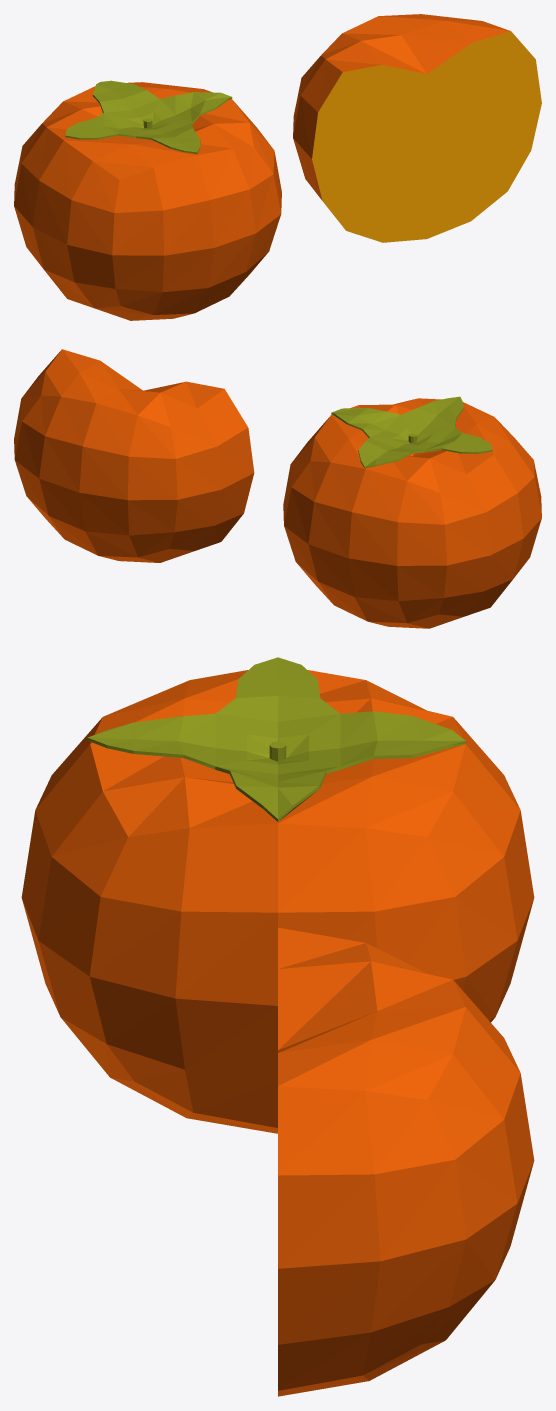
3 views of the same model, one above another, from view 1: azimuth 30°, elevation 25°; view 2: azimuth 150°, elevation 25°; view 3: azimuth 270°, elevation 25° (orthographic). The views are drawn at different scales.
Visible parts, largest first — view 1: Node; view 2: Node; view 3: Node.
Boxes of the visible parts, x1,y1,x2,y2 form: Node: (14,14,541,320); Node: (14,349,541,628); Node: (21,657,534,1396).
Bounding box in the file's own units: 2.02 × 0.7352 × 0.915.
